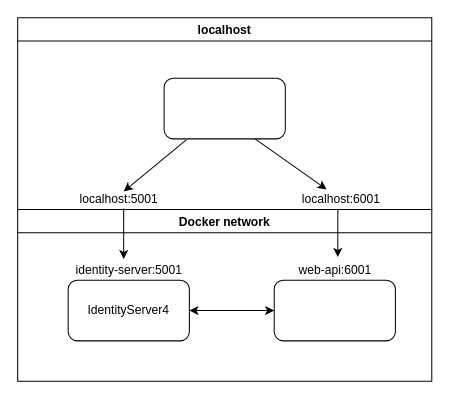
The diagram is 449 pixels wide and 399 high, and some of its shapes have lost their labels. Here are the shapes that lost their labels. From the top down, the centre of each, then its label:
At (224,108): "Client".
At (334,310): "API".
